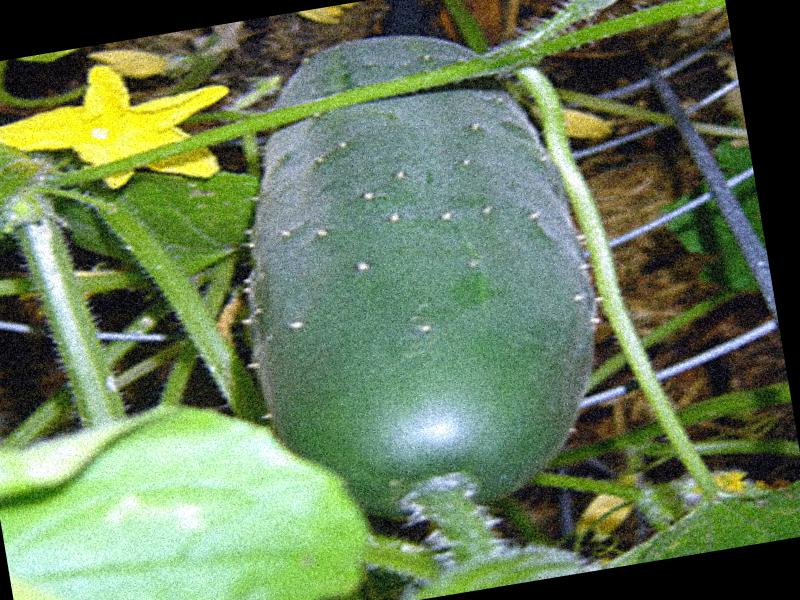Cucumber: (206, 13, 623, 547)
